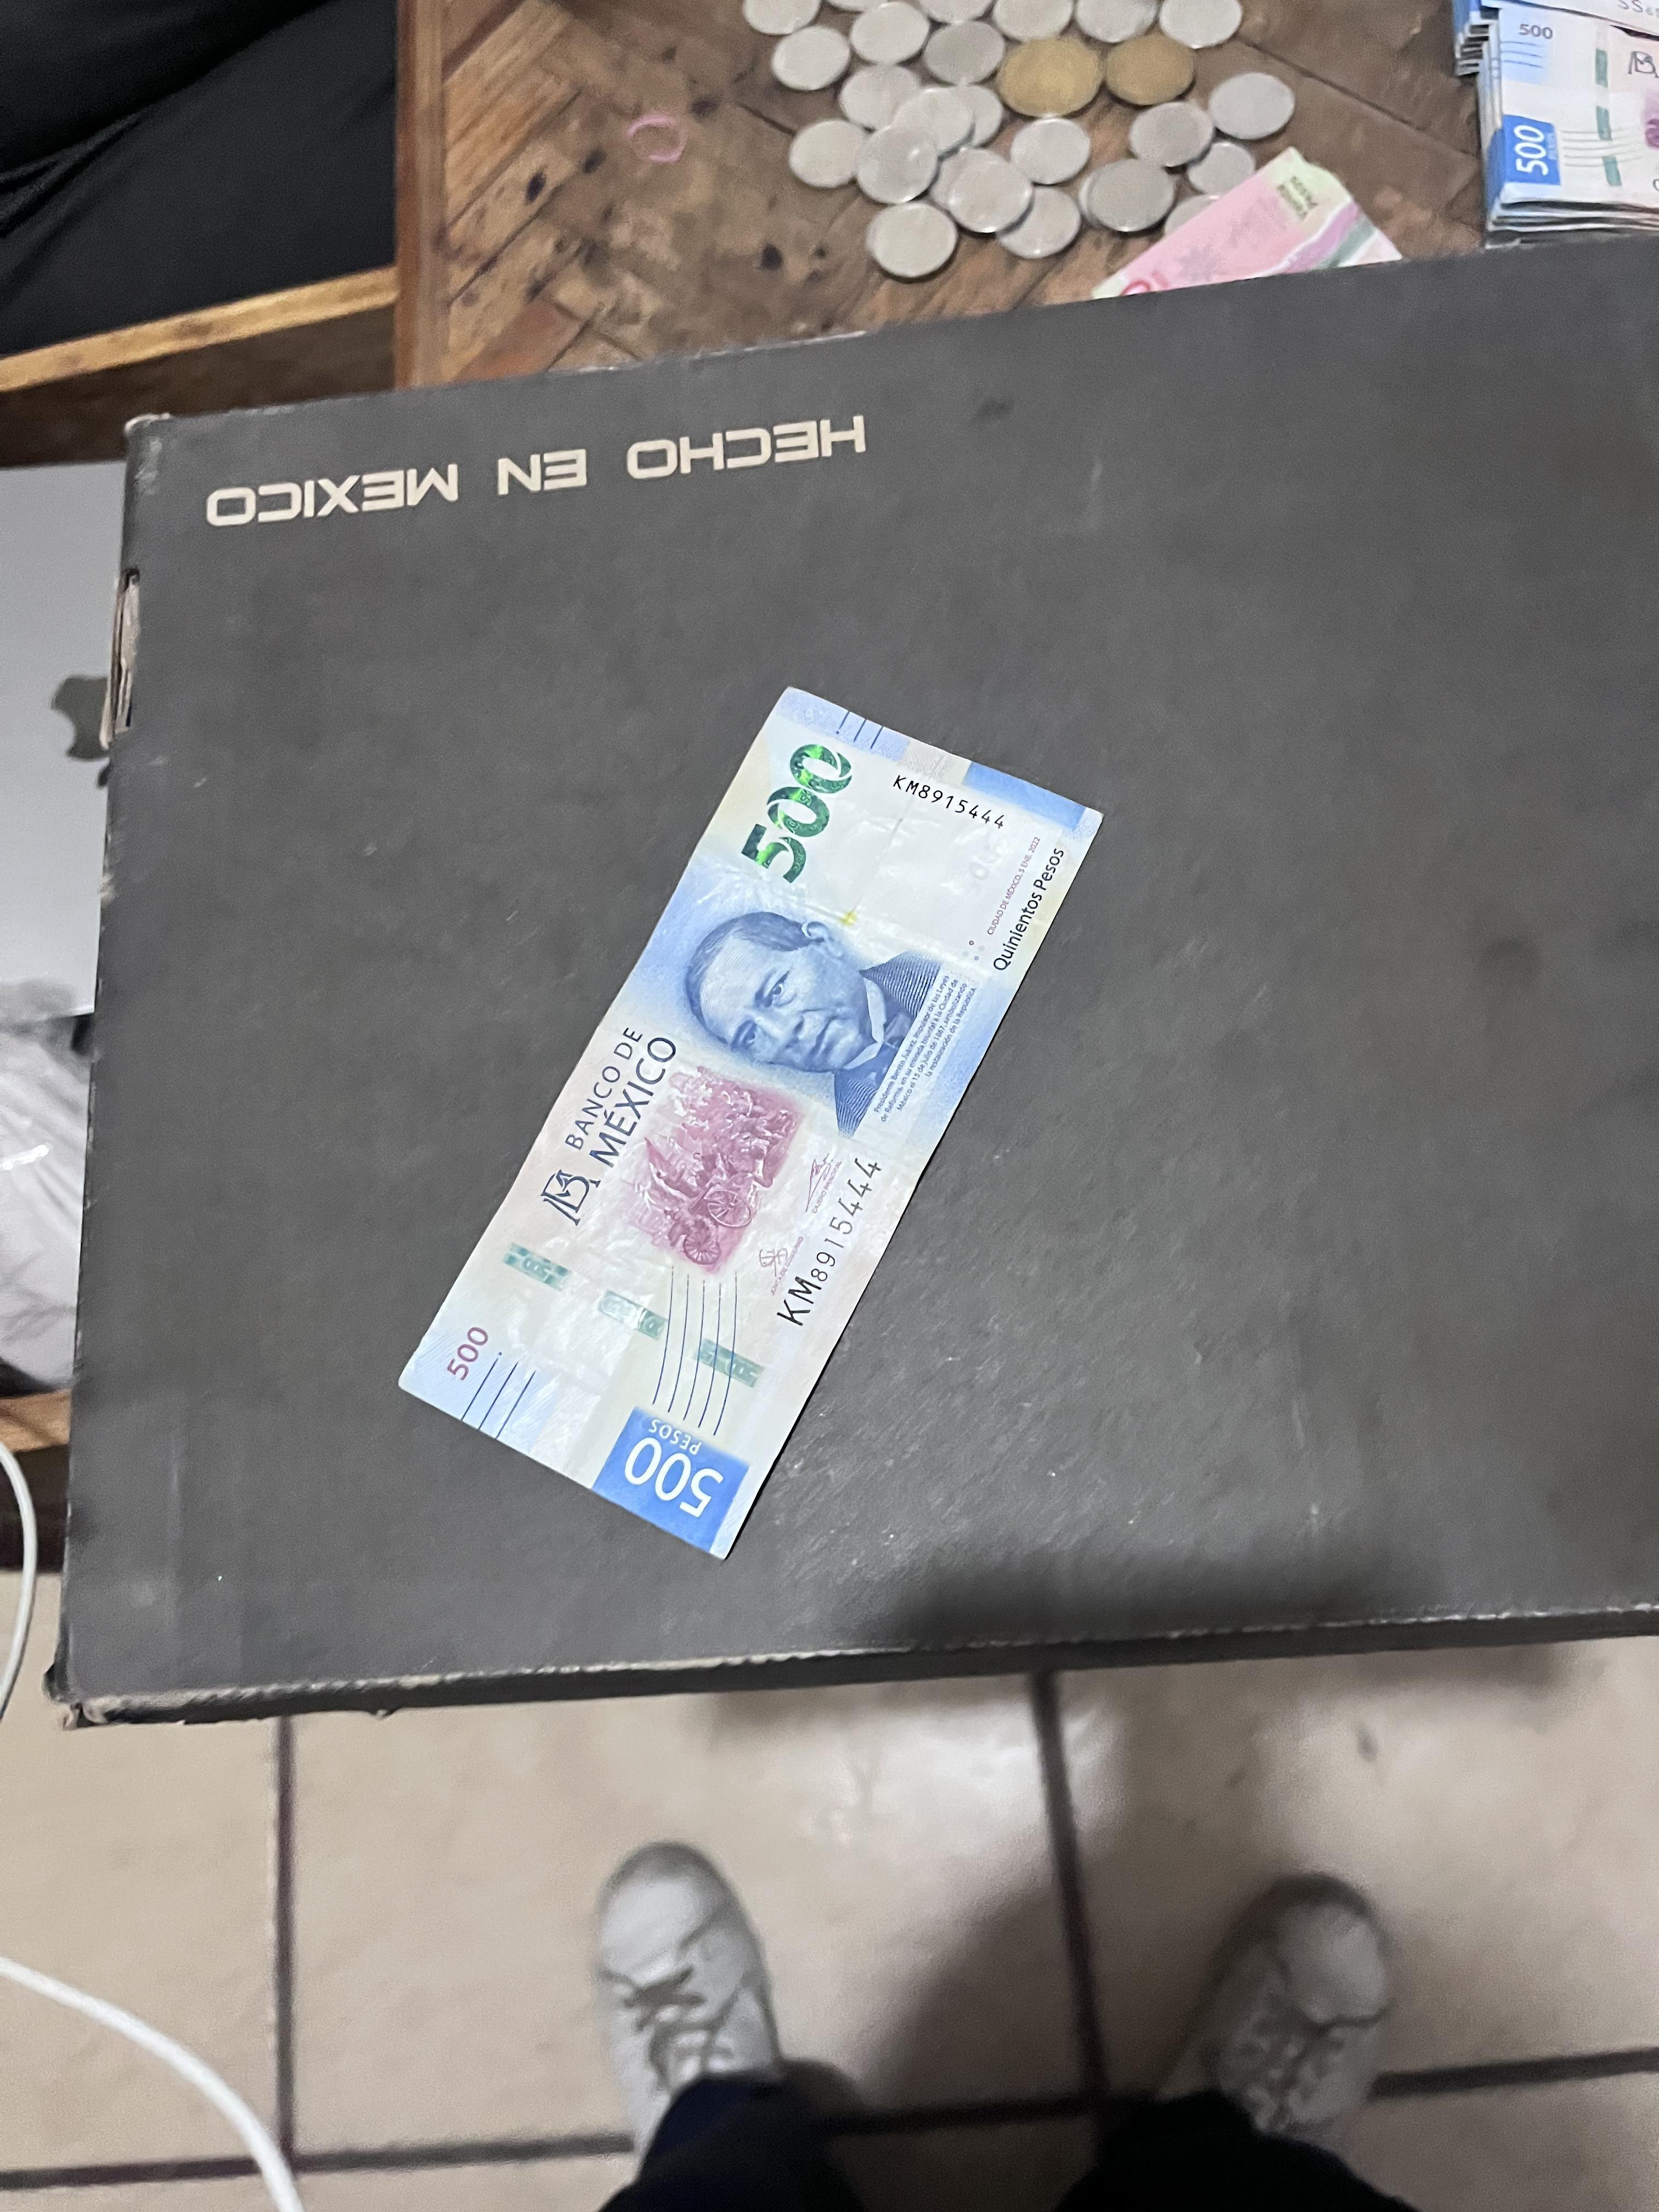500 nuevo: (319, 650, 1309, 1679), (1467, 0, 1659, 244)
